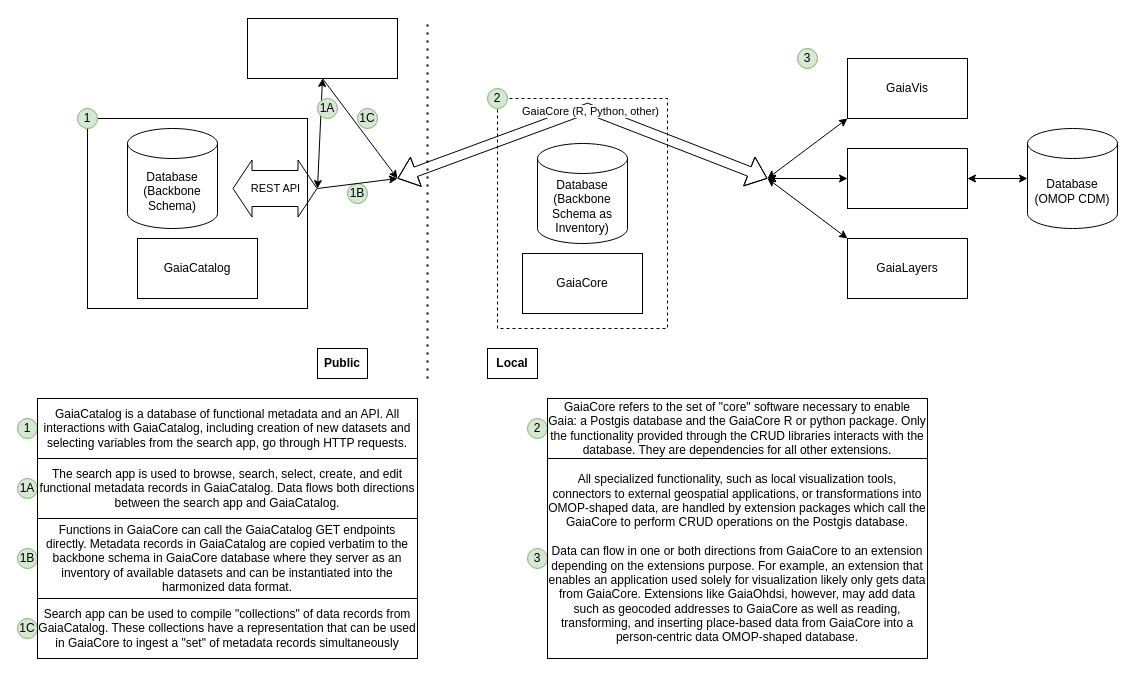
This 1135x676 diagram has some shape labels left out. Here are the shapes that lost their labels. From the top down, the centre of each, then its label:
[322,48]: Front end (Search App +)
[907,178]: GaiaOhdsi
